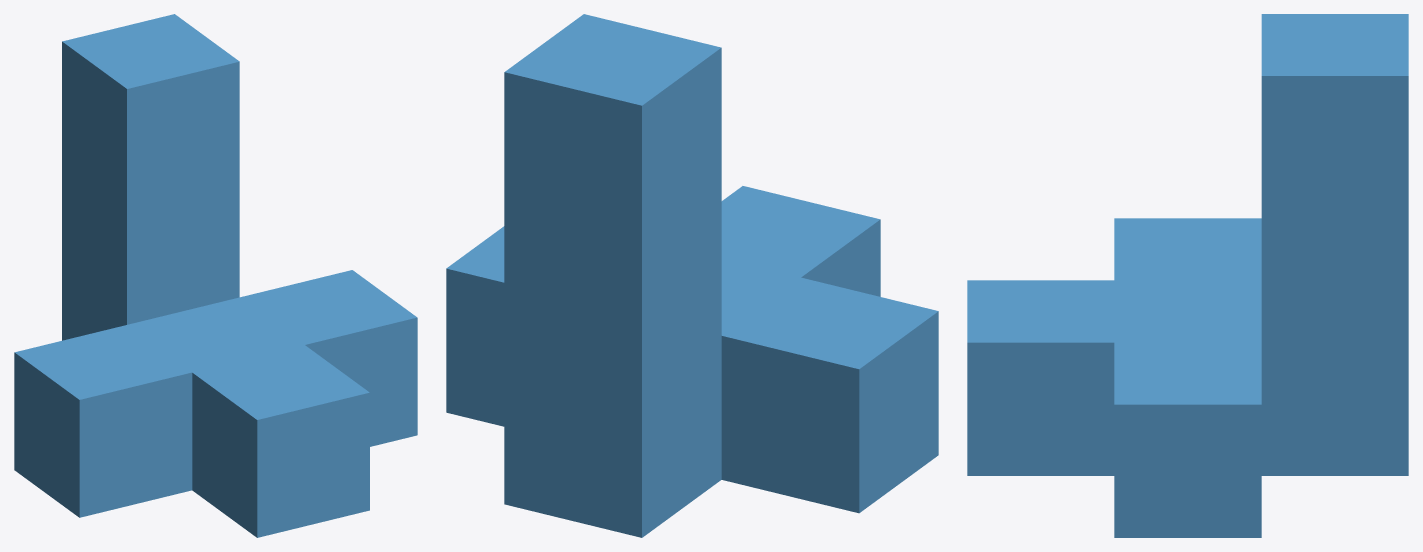
The model's file is toucan__leg_r.glb.
3 views of the same model, side by side, from view 1: azimuth 30°, elevation 25°; view 2: azimuth 150°, elevation 25°; view 3: azimuth 270°, elevation 25° (orthographic). The views are drawn at different scales.
Parts seen in each view (by area): view 1: toucan__leg_r; view 2: toucan__leg_r; view 3: toucan__leg_r.
Boxes of the visible parts, bbox=[...] form: toucan__leg_r: bbox=[14, 14, 417, 537]; toucan__leg_r: bbox=[446, 14, 938, 537]; toucan__leg_r: bbox=[967, 14, 1408, 537].
Size of the model in its own units: 0.3 by 0.3 by 0.3.
1 material, 1 textured.
